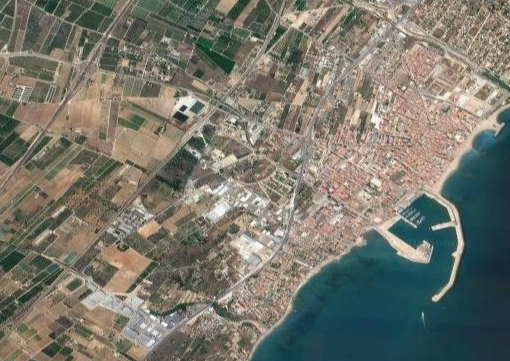bridge: (213, 97, 227, 106)
harbor: (374, 178, 472, 304)
industrial: (197, 181, 262, 224), (230, 221, 272, 266)
motorway: (38, 85, 77, 137), (72, 36, 111, 88), (120, 162, 162, 210), (1, 137, 39, 189), (39, 253, 80, 301), (80, 207, 121, 255), (164, 116, 205, 164), (206, 71, 247, 119), (1, 296, 37, 344), (171, 296, 217, 331), (216, 263, 262, 298), (139, 325, 171, 360), (105, 1, 136, 36), (246, 32, 271, 71), (263, 230, 291, 264), (312, 76, 336, 115), (283, 192, 300, 230), (292, 154, 309, 192), (298, 116, 315, 154), (267, 1, 287, 31)
